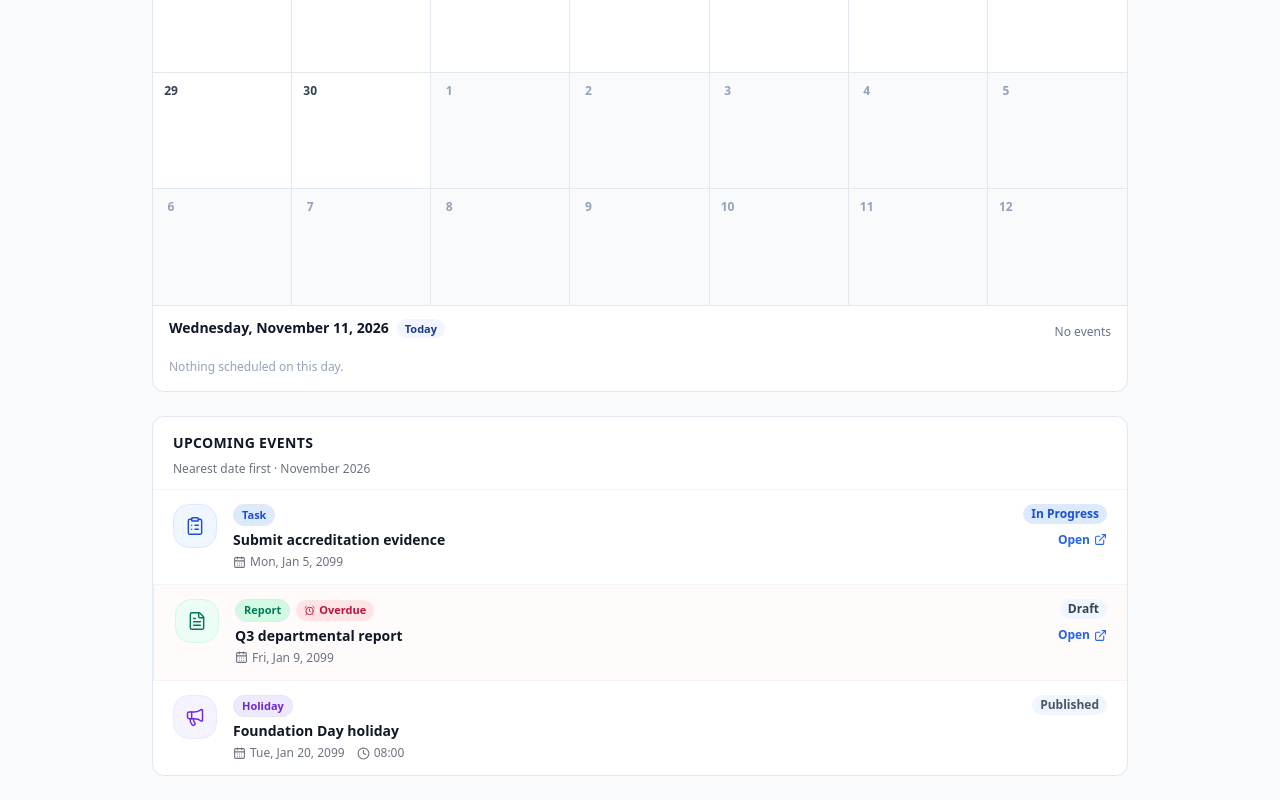
Scenario: EmployeeCalendarPage (Upcoming Events panel) › opens an event detail with its description and related-record link
(page scrolled)
Click the button "Foundation Day holiday" at (316, 731), box [233,721,399,741]
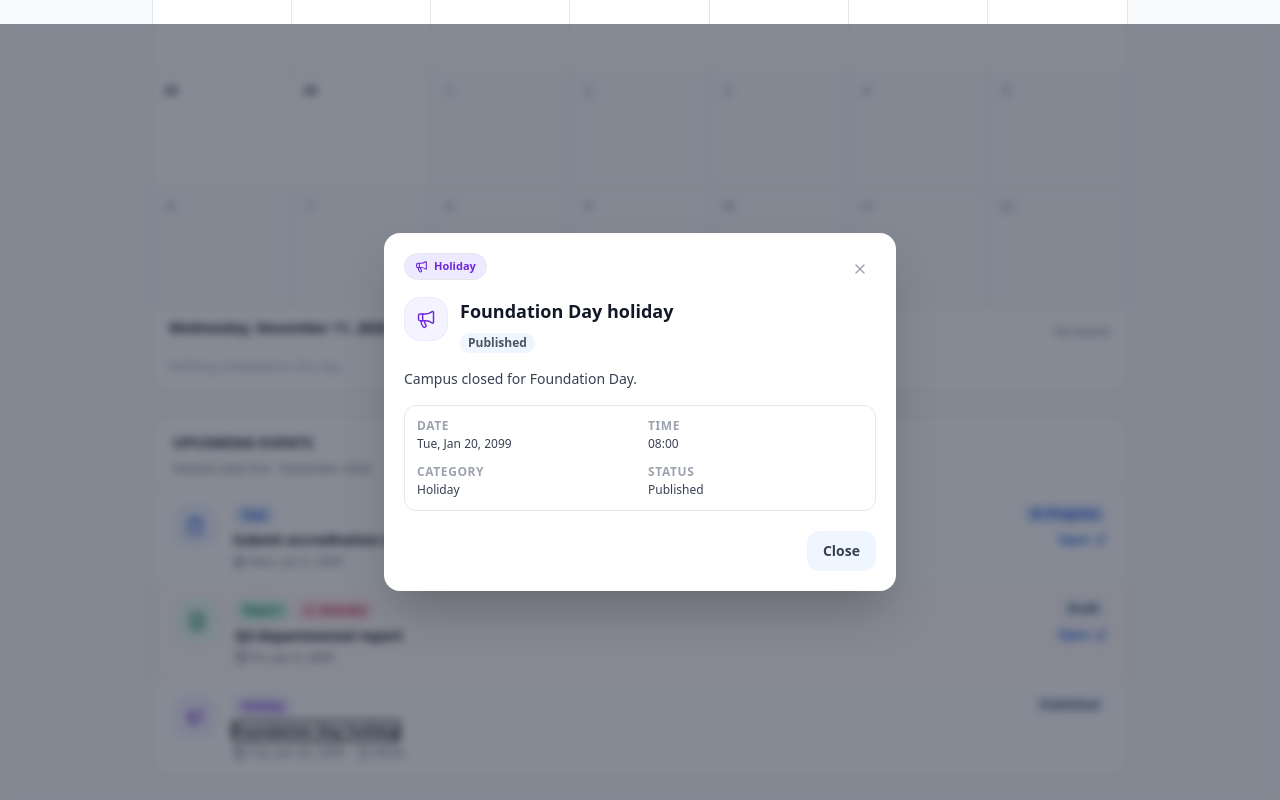
Expected: the text "Campus closed for Foundation Day." is shown, [404,369,637,388]
